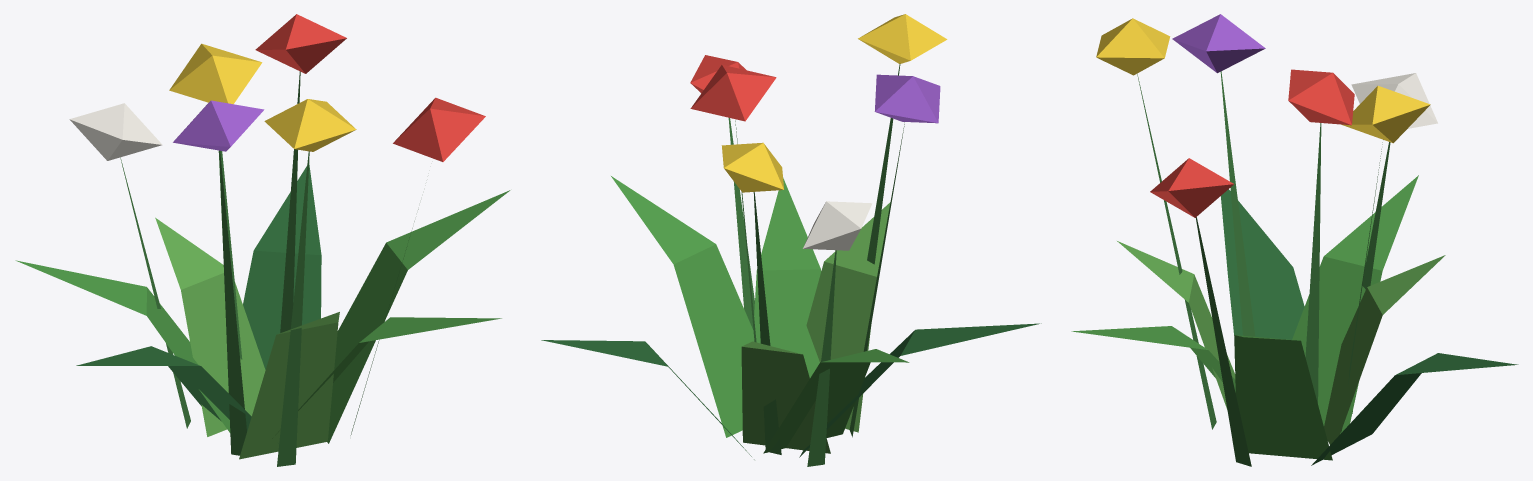
File: flower_patch.glb
The picture shows the model from 3 angles, left to right: view 1: azimuth 30°, elevation 25°; view 2: azimuth 150°, elevation 25°; view 3: azimuth 270°, elevation 25°; orthographic projection. The views are drawn at different scales.
Visible parts, largest first — view 1: flower_patch__mesh; view 2: flower_patch__mesh; view 3: flower_patch__mesh.
Part boxes in pixels (x1,y1,x2,y2): flower_patch__mesh: (15,14,510,466); flower_patch__mesh: (541,14,1041,466); flower_patch__mesh: (1071,14,1518,466).
Bounding box in the file's own units: 0.5798 × 0.4959 × 0.5063.
1 material, 1 textured.
